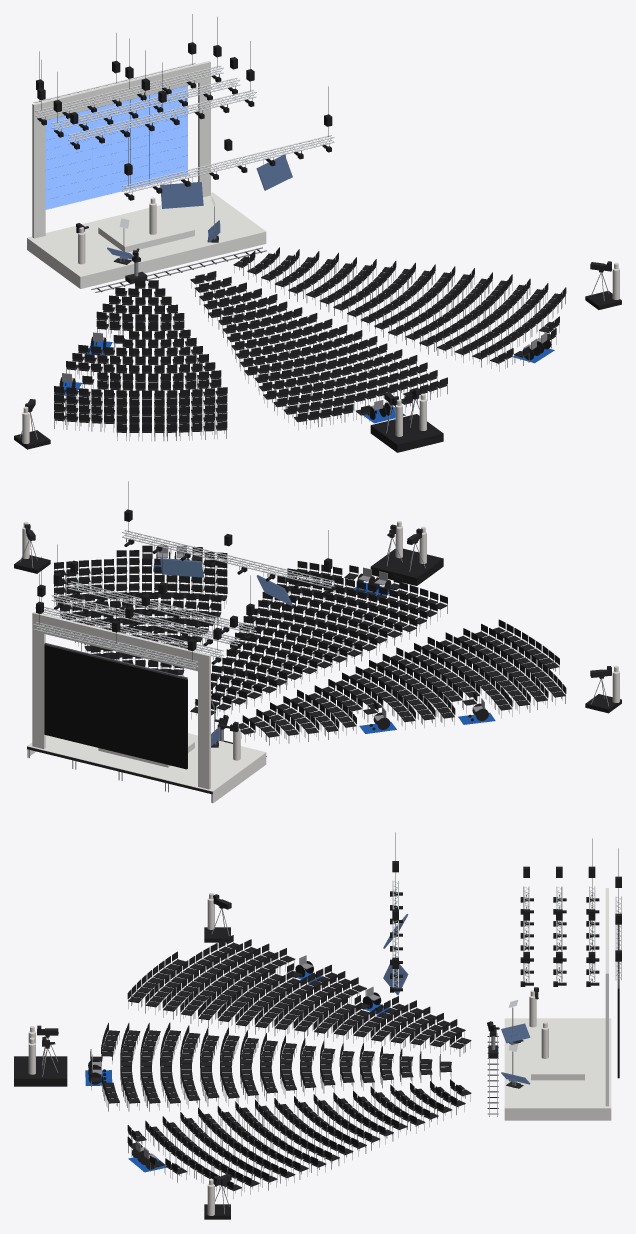
The model's file is conversation.glb.
3 views of the same model, one above another, from view 1: azimuth 30°, elevation 25°; view 2: azimuth 150°, elevation 25°; view 3: azimuth 270°, elevation 25° (orthographic).
Visible parts, largest first — view 1: SCN.PORTAL.HEADER, FASCIA.MAIN.FRONT, SCN.PORTAL.LEG.L, BC.PLATFORM.FOH, SCN.PORTAL.LEG.R, BC.FOHMON.L, BC.FOHMON.R, FASCIA.MAIN.LEFT.1, DECK.R03C04, DECK.R01C01, DECK.RISER_R1.R01C02, DECK.R01C03; view 2: SCN.PORTAL.HEADER, SCN.PORTAL.LEG.L, SCN.PORTAL.LEG.R, BC.PLATFORM.FOH, DECK.R04C03, DECK.R04C02, FASCIA.MAIN.LEFT.1, BC.FOHMON.R, DECK.R04C04, DECK.R04C01, DECK.R01C01, DECK.R02C01 (+9 smaller); view 3: BC.PLATFORM.FOH, FASCIA.MAIN.RIGHT.2, DECK.RISER_R1.R02C02, DECK.R01C04, DECK.R02C04, DECK.R03C01, DECK.R03C04, DECK.RISER_R1.R01C02, DECK.R04C04, DECK.R01C02, DECK.R04C01, DECK.R04C03 (+2 smaller).
Part boxes in pixels (bbox=[...]): SCN.PORTAL.HEADER: bbox=[44, 63, 199, 119]; FASCIA.MAIN.FRONT: bbox=[80, 231, 266, 288]; SCN.PORTAL.LEG.L: bbox=[32, 101, 45, 238]; BC.PLATFORM.FOH: bbox=[370, 414, 443, 452]; SCN.PORTAL.LEG.R: bbox=[198, 61, 210, 197]; BC.FOHMON.L: bbox=[160, 182, 203, 208]; BC.FOHMON.R: bbox=[256, 155, 292, 190]; FASCIA.MAIN.LEFT.1: bbox=[27, 238, 80, 288]; DECK.R03C04: bbox=[180, 202, 238, 223]; DECK.R01C01: bbox=[67, 256, 126, 276]; DECK.RISER_R1.R01C02: bbox=[135, 220, 194, 240]; DECK.R01C03: bbox=[160, 233, 219, 253]; SCN.PORTAL.HEADER: bbox=[44, 614, 198, 671]; SCN.PORTAL.LEG.L: bbox=[198, 652, 210, 789]; SCN.PORTAL.LEG.R: bbox=[32, 612, 45, 749]; BC.PLATFORM.FOH: bbox=[370, 548, 443, 585]; DECK.R04C03: bbox=[73, 748, 132, 771]; DECK.R04C02: bbox=[120, 759, 178, 782]; FASCIA.MAIN.LEFT.1: bbox=[212, 752, 266, 803]; BC.FOHMON.R: bbox=[160, 558, 203, 577]; DECK.R04C04: bbox=[27, 738, 86, 760]; DECK.R04C01: bbox=[166, 770, 225, 794]; DECK.R01C01: bbox=[211, 741, 265, 761]; DECK.R02C01: bbox=[193, 752, 252, 771]; BC.PLATFORM.FOH: bbox=[14, 1056, 67, 1086]; FASCIA.MAIN.RIGHT.2: bbox=[504, 1108, 611, 1120]; DECK.RISER_R1.R02C02: bbox=[558, 1051, 584, 1074]; DECK.R01C04: bbox=[504, 1086, 531, 1108]; DECK.R02C04: bbox=[531, 1086, 557, 1108]; DECK.R03C01: bbox=[558, 1018, 584, 1040]; DECK.R03C04: bbox=[558, 1086, 584, 1108]; DECK.RISER_R1.R01C02: bbox=[531, 1051, 557, 1074]; DECK.R04C04: bbox=[584, 1086, 611, 1108]; DECK.R01C02: bbox=[504, 1041, 530, 1063]; DECK.R04C01: bbox=[584, 1018, 611, 1040]; DECK.R04C03: bbox=[584, 1063, 611, 1085].
Bounding box in the file's own units: 31.37 × 9.84 × 27.87.
